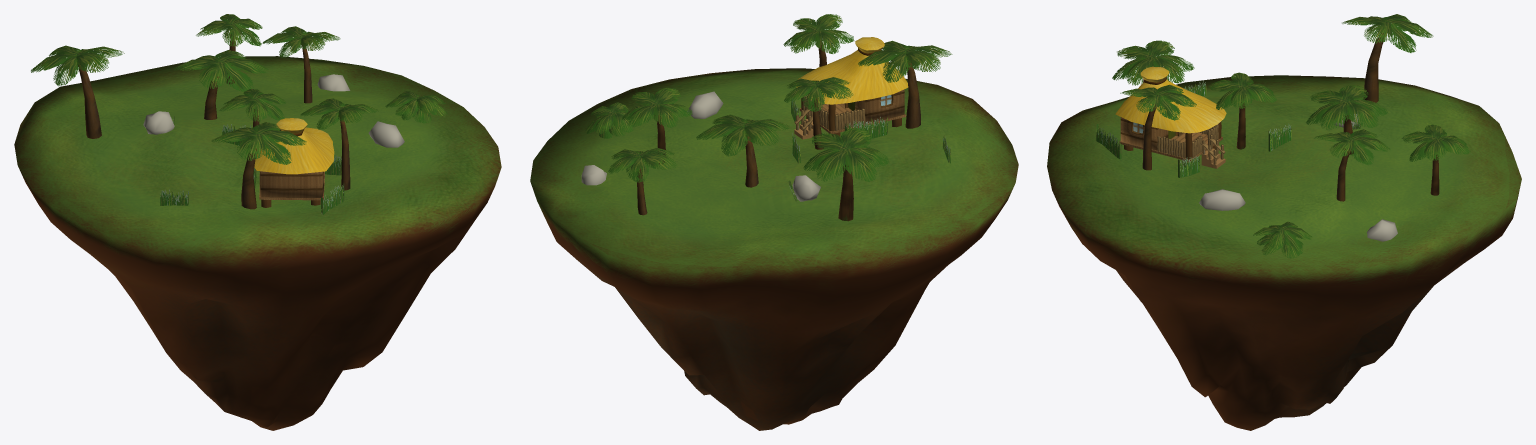
The picture shows the model from 3 angles, left to right: view 1: azimuth 30°, elevation 25°; view 2: azimuth 150°, elevation 25°; view 3: azimuth 270°, elevation 25°; orthographic projection. The views are drawn at different scales.
Parts seen in each view (by area): view 1: island_body1, roof, palm8, palm3, palm5, palm1, house_body, palm7, palm6, palm2, bush1, stone1 (+1 smaller); view 2: island_body1, palm8, roof, palm3, palm5, palm7, palm1, palm6, palm2, bush1, house_body, stone1 (+2 smaller); view 3: island_body1, roof, palm5, palm8, palm3, palm1, palm2, palm7, palm6, bush1, house_body, stone1 (+3 smaller).
Boxes of the visible parts, x1,y1,x2,y2 form: island_body1: [14, 56, 501, 430]; roof: [254, 118, 334, 174]; palm8: [31, 45, 124, 138]; palm3: [211, 122, 306, 209]; palm5: [174, 50, 268, 119]; palm1: [300, 98, 378, 190]; house_body: [259, 164, 324, 197]; palm7: [262, 26, 340, 103]; palm6: [196, 14, 262, 84]; palm2: [219, 89, 285, 148]; bush1: [385, 91, 447, 123]; stone1: [368, 121, 404, 147]; island_body1: [530, 68, 1018, 430]; palm8: [803, 128, 889, 221]; roof: [796, 37, 908, 104]; palm3: [858, 40, 952, 128]; palm5: [696, 114, 789, 187]; palm7: [622, 88, 692, 164]; palm1: [783, 14, 854, 66]; palm6: [608, 148, 677, 215]; palm2: [784, 77, 853, 149]; bush1: [585, 102, 643, 138]; house_body: [840, 89, 904, 122]; stone1: [687, 91, 723, 118]; island_body1: [1047, 75, 1521, 430]; roof: [1115, 66, 1226, 133]; palm5: [1306, 85, 1387, 154]; palm8: [1342, 14, 1433, 102]; palm3: [1112, 40, 1194, 85]; palm1: [1120, 84, 1196, 170]; palm2: [1208, 72, 1276, 149]; palm7: [1314, 129, 1390, 201]; palm6: [1401, 124, 1470, 195]; bush1: [1253, 221, 1312, 258]; house_body: [1120, 117, 1183, 150]; stone1: [1199, 189, 1245, 210].
Bounding box in the file's own units: 85.27 × 72.05 × 87.68.
9 materials, 8 textured.
